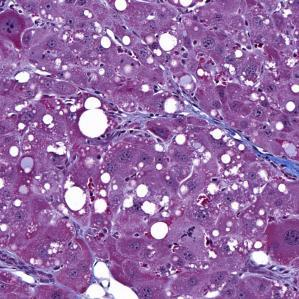fibrosis: (110, 103, 189, 151)
